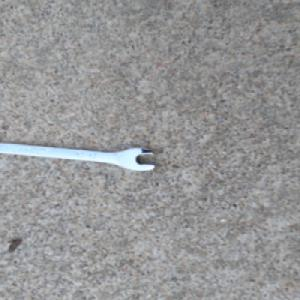Wrench: (0, 141, 158, 171)
